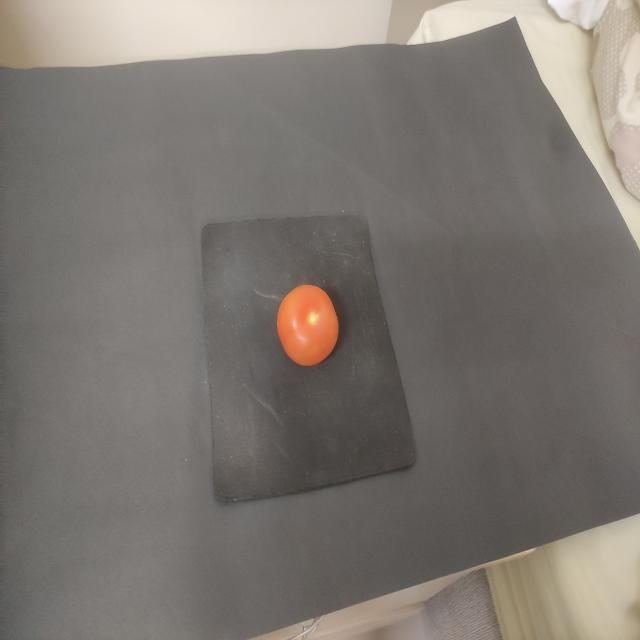sari: (273, 269, 353, 391)
